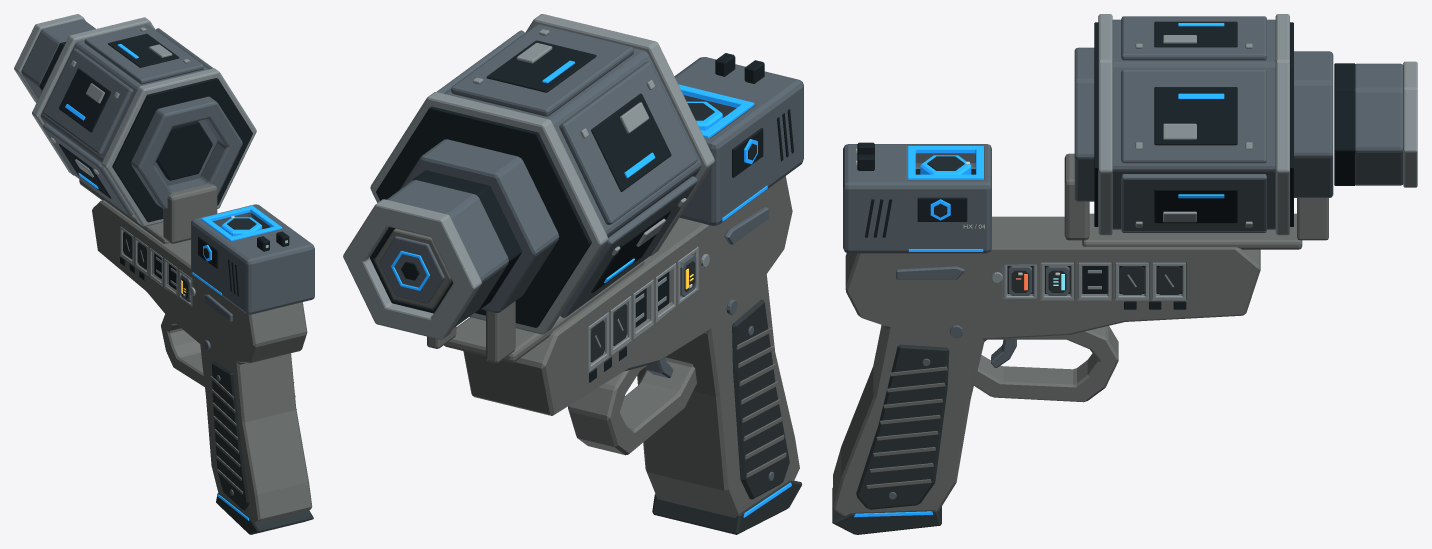
File: HexagonMineLauncher.glb
3 renders of one model, left to right at view 1: azimuth 30°, elevation 25°; view 2: azimuth 150°, elevation 25°; view 3: azimuth 270°, elevation 25°, orthographic. The views are drawn at different scales.
Parts seen in each view (by area): view 1: Frame | continuous receiver and swept grip, MultiWeapon | shared rear receiver, Hexagon_Rear_Coupling, Hexagon_Drum_Rear_Gasket, Hexagon_Flat_03_Armor, Hexagon_Drum_Rear_Band, Grip | contoured panel -1, Hexagon_Flat_02_Armor, Hexagon_Rear_Axle, Hexagon_Drum_Core, Hexagon_Cradle_Saddle, Hexagon_Muzzle_Collar (+10 smaller); view 2: Frame | continuous receiver and swept grip, MultiWeapon | shared rear receiver, Hexagon_Drum_Front_Gasket, Hexagon_Muzzle_Lip, Hexagon_Forward_Housing, Hexagon_Flat_03_Armor, Frame | open shaped trigger guard, Grip | contoured panel -1, Hexagon_Drum_Front_Band, Hexagon_Flat_02_Armor, Hexagon_Muzzle_Collar, Hexagon_Drum_Core (+17 smaller); view 3: Frame | continuous receiver and swept grip, MultiWeapon | shared rear receiver, Hexagon_Flat_01_Armor, Grip | contoured panel 1, Hexagon_Drum_Core, Hexagon_Muzzle_Collar, Frame | open shaped trigger guard, Hexagon_Forward_Housing, Hexagon_Flat_06_Armor, Hexagon_Flat_02_Armor, Hexagon_Flat_01_Inset, Hexagon_Cradle_Foot (+17 smaller).
Part boxes in pixels (<box>): Frame | continuous receiver and swept grip: <box>92,200,312,523</box>; MultiWeapon | shared rear receiver: <box>191,204,314,314</box>; Hexagon_Rear_Coupling: <box>131,96,242,209</box>; Hexagon_Drum_Rear_Gasket: <box>112,78,252,222</box>; Hexagon_Flat_03_Armor: <box>43,48,133,154</box>; Hexagon_Drum_Rear_Band: <box>101,68,256,226</box>; Grip | contoured panel -1: <box>212,361,249,510</box>; Hexagon_Flat_02_Armor: <box>84,24,203,84</box>; Hexagon_Rear_Axle: <box>156,121,212,180</box>; Hexagon_Drum_Core: <box>40,40,217,185</box>; Hexagon_Cradle_Saddle: <box>163,184,217,243</box>; Hexagon_Muzzle_Collar: <box>21,20,95,99</box>; Frame | continuous receiver and swept grip: <box>463,176,799,517</box>; MultiWeapon | shared rear receiver: <box>674,57,803,225</box>; Hexagon_Drum_Front_Gasket: <box>376,106,591,327</box>; Hexagon_Muzzle_Lip: <box>343,199,481,339</box>; Hexagon_Forward_Housing: <box>399,139,559,312</box>; Hexagon_Flat_03_Armor: <box>559,61,697,224</box>; Frame | open shaped trigger guard: <box>568,357,696,455</box>; Grip | contoured panel -1: <box>732,299,789,499</box>; Hexagon_Drum_Front_Band: <box>370,92,608,334</box>; Hexagon_Flat_02_Armor: <box>451,24,633,116</box>; Hexagon_Muzzle_Collar: <box>387,180,508,327</box>; Hexagon_Drum_Core: <box>444,48,701,237</box>; Frame | continuous receiver and swept grip: <box>833,216,1260,515</box>; MultiWeapon | shared rear receiver: <box>843,144,991,253</box>; Hexagon_Flat_01_Armor: <box>1121,69,1266,163</box>; Grip | contoured panel 1: <box>856,344,949,509</box>; Hexagon_Drum_Core: <box>1112,19,1275,229</box>; Hexagon_Muzzle_Collar: <box>1355,63,1403,185</box>; Frame | open shaped trigger guard: <box>974,326,1118,402</box>; Hexagon_Forward_Housing: <box>1294,51,1333,197</box>; Hexagon_Flat_06_Armor: <box>1121,174,1266,231</box>; Hexagon_Flat_02_Armor: <box>1121,16,1266,60</box>; Hexagon_Flat_01_Inset: <box>1154,87,1237,145</box>; Hexagon_Cradle_Foot: <box>1082,213,1302,249</box>.
Size of the model in its own units: 0.1253 by 0.3031 by 0.33.
